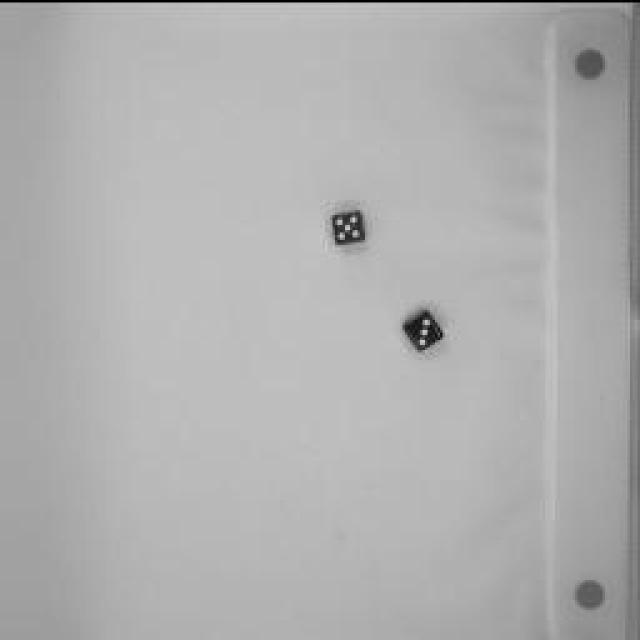dice_3: (401, 302, 454, 358)
dice_5: (327, 201, 375, 251)
